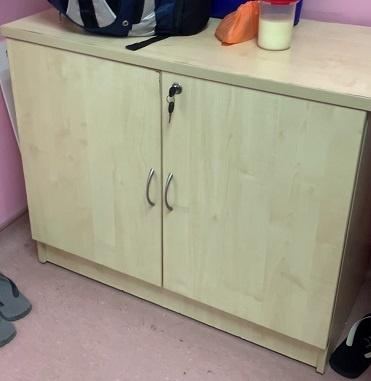cabinet_door: (163, 89, 354, 317), (27, 65, 159, 267)
handle: (144, 169, 156, 211), (163, 172, 174, 214)
